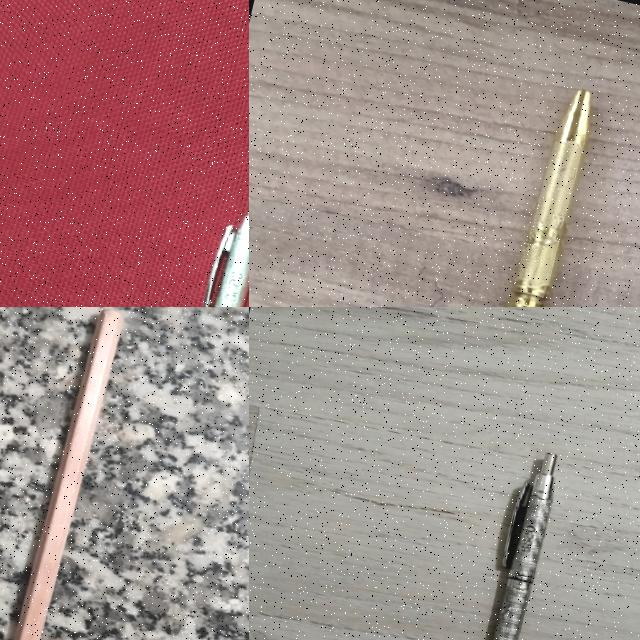pencil: (14, 310, 122, 639)
signature pen: (506, 90, 589, 306), (493, 454, 555, 639), (158, 185, 249, 307)
